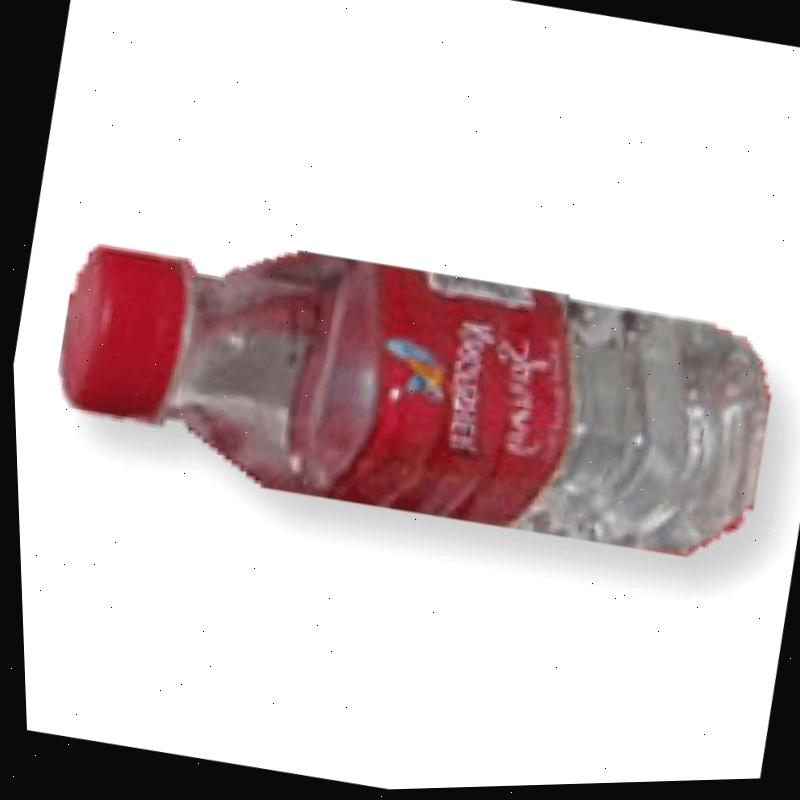botella: (31, 193, 793, 584)
